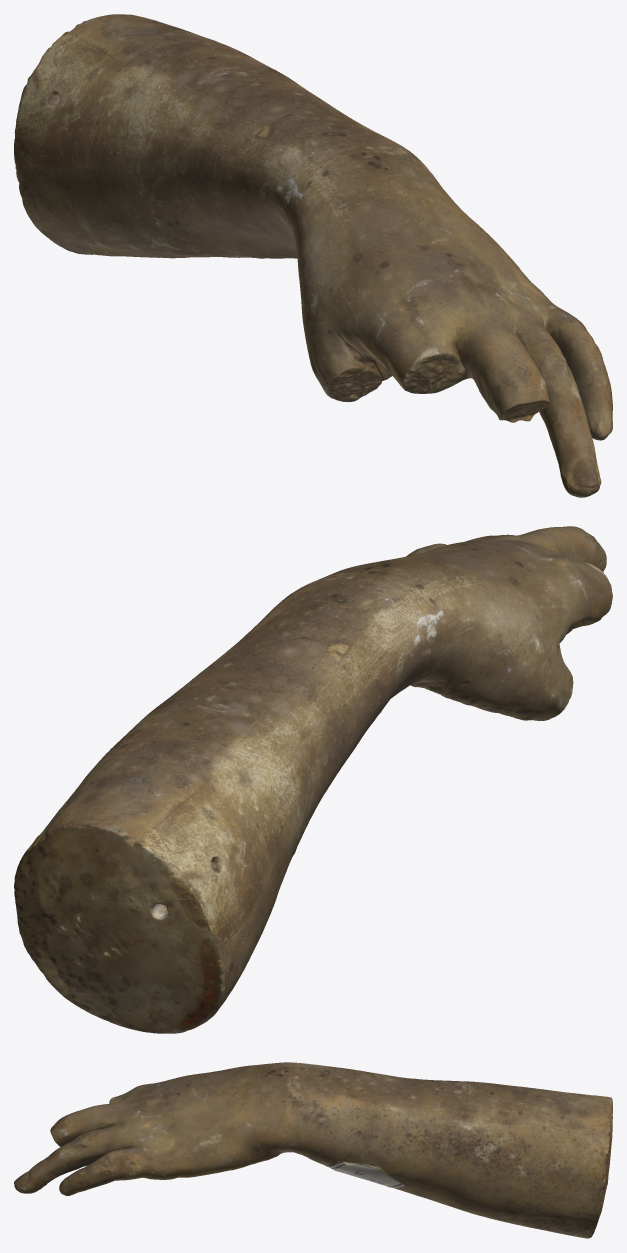
The model's file is life-cast-of-left-forearm-and-hand-150k.obj.
The picture shows the model from 3 angles, top to bottom: view 1: azimuth 30°, elevation 25°; view 2: azimuth 150°, elevation 25°; view 3: azimuth 270°, elevation 25°; orthographic projection. The views are drawn at different scales.
Size of the model in its own units: 3.21 by 3.84 by 12.64.
